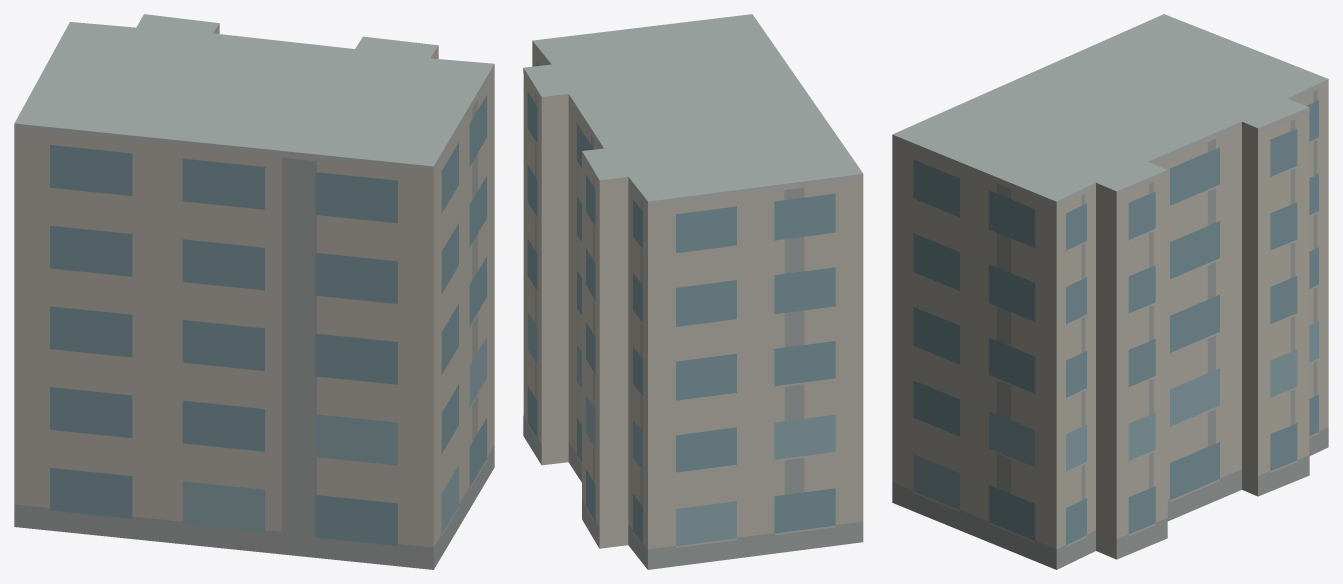
File: survey-upis-32882286.glb
The picture shows the model from 3 angles, left to right: view 1: azimuth 30°, elevation 25°; view 2: azimuth 150°, elevation 25°; view 3: azimuth 270°, elevation 25°; orthographic projection. The views are drawn at different scales.
Visible parts, largest first — view 1: survey-upis-32882286.tmp; view 2: survey-upis-32882286.tmp; view 3: survey-upis-32882286.tmp.
Part boxes in pixels (x1,y1,x2,y2): survey-upis-32882286.tmp: (14,14,494,569); survey-upis-32882286.tmp: (523,14,863,569); survey-upis-32882286.tmp: (892,14,1328,569).
Bounding box in the file's own units: 16.08 × 14.7 × 15.8.
